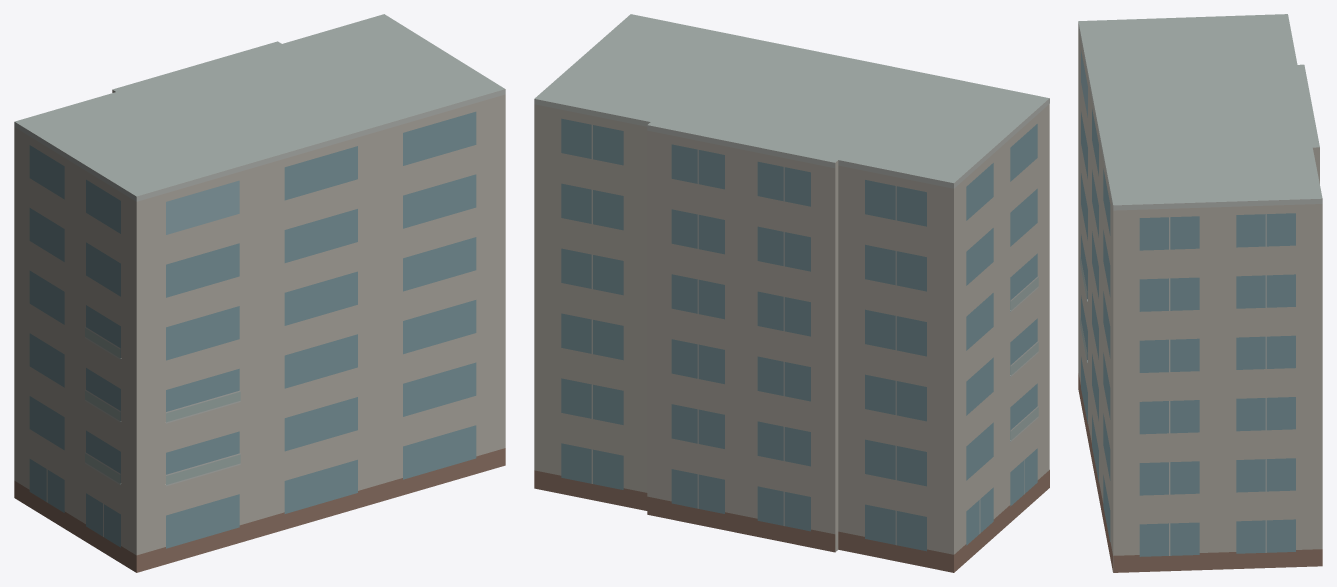
Rendered from survey-upis-32753968.glb.
3 renders of one model, left to right at view 1: azimuth 30°, elevation 25°; view 2: azimuth 150°, elevation 25°; view 3: azimuth 270°, elevation 25°, orthographic. The views are drawn at different scales.
Visible parts, largest first — view 1: survey-upis-32753968.tmp; view 2: survey-upis-32753968.tmp; view 3: survey-upis-32753968.tmp.
Boxes of the visible parts, left/top/right/bottom form: survey-upis-32753968.tmp: left=14, top=14, right=505, bottom=572; survey-upis-32753968.tmp: left=534, top=14, right=1049, bottom=572; survey-upis-32753968.tmp: left=1078, top=14, right=1322, bottom=572.
Size of the model in its own units: 19.33 by 17.3 by 10.43.
